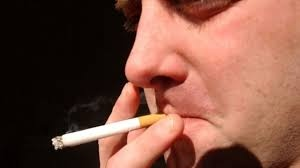sigaretta: (53, 112, 168, 149)
